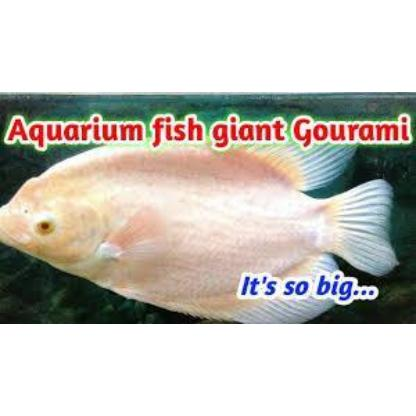gurame: (0, 144, 394, 316)
